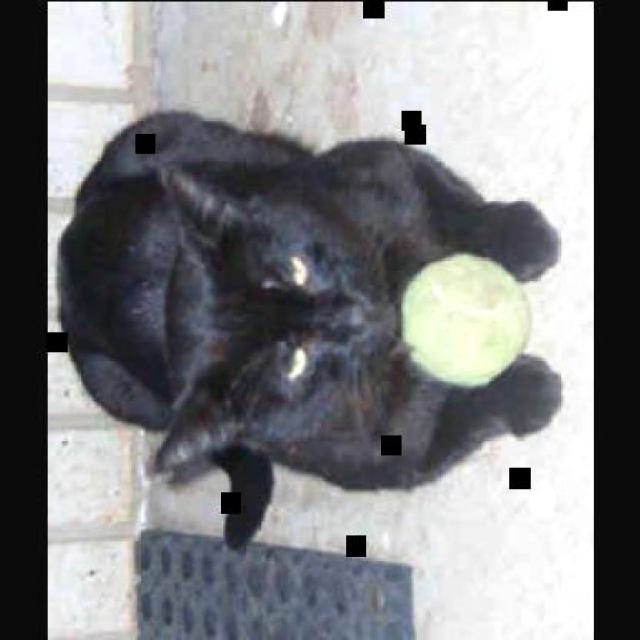unauthorized: (55, 108, 563, 492)
